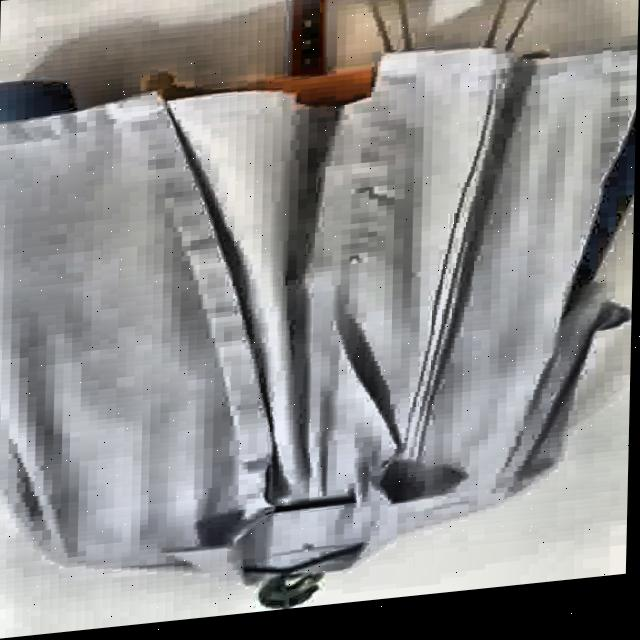clothes: (0, 18, 638, 632)
